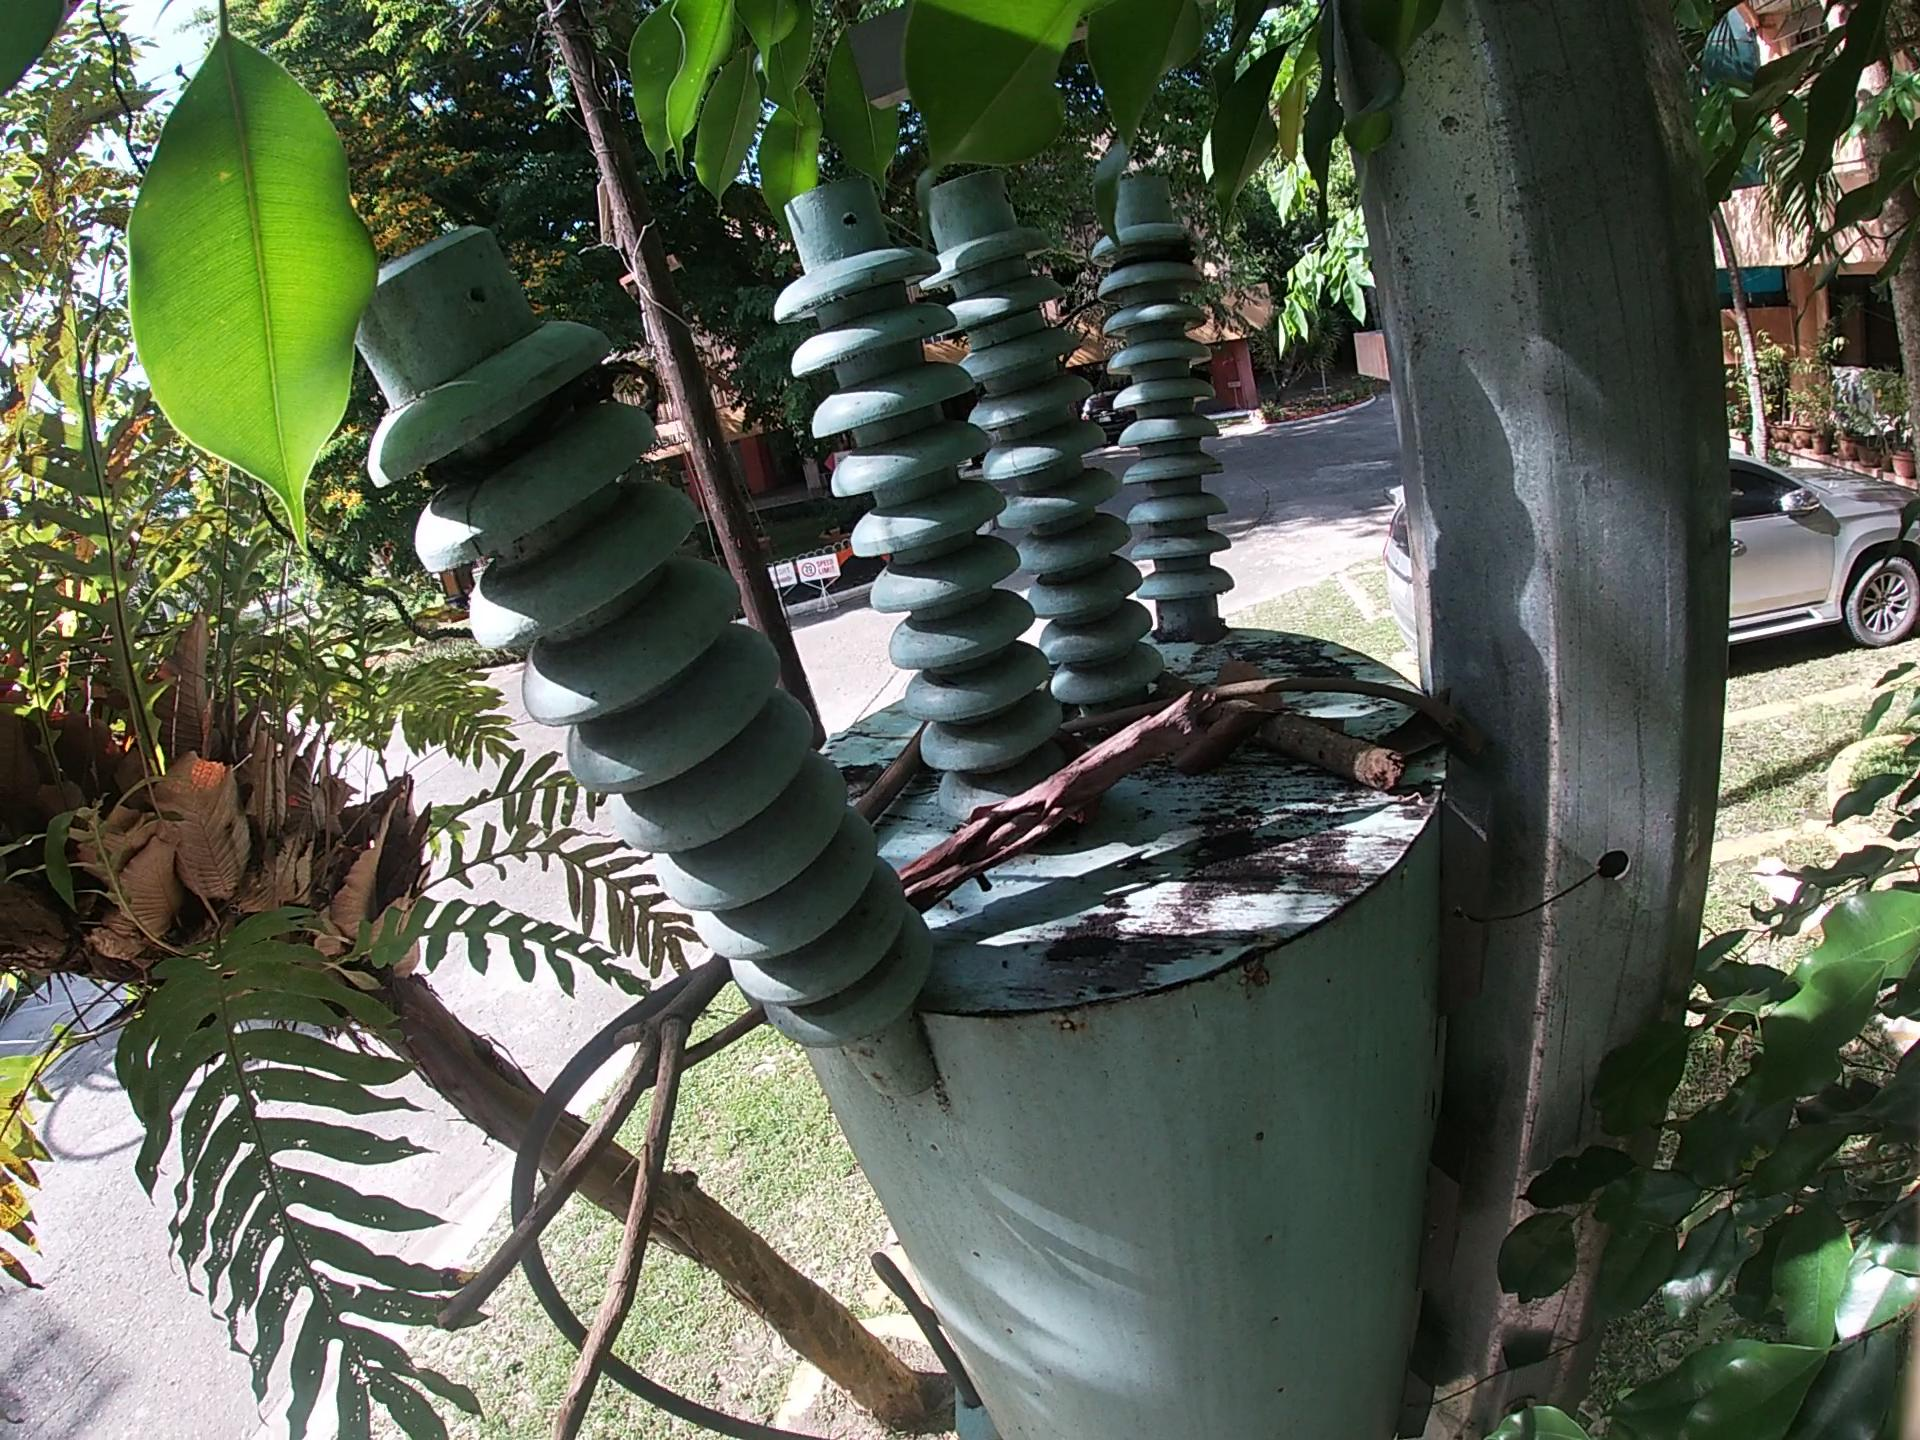leaf: (1382, 687, 1471, 764), (1172, 712, 1265, 784), (1211, 656, 1281, 706)
tree branch: (426, 959, 745, 1367), (906, 690, 1222, 908), (1214, 702, 1429, 799), (1049, 675, 1451, 720), (649, 1012, 773, 1109), (851, 728, 922, 827)
